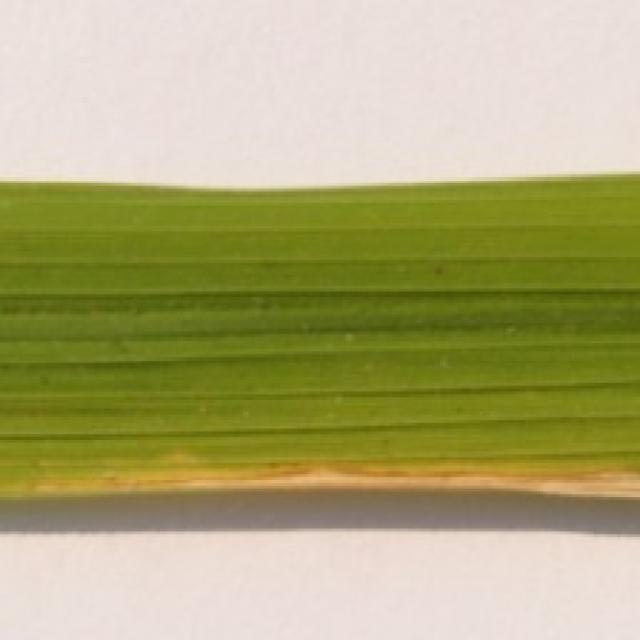Rice___Bacterial_Leaf_Blight: (0, 168, 637, 511)
